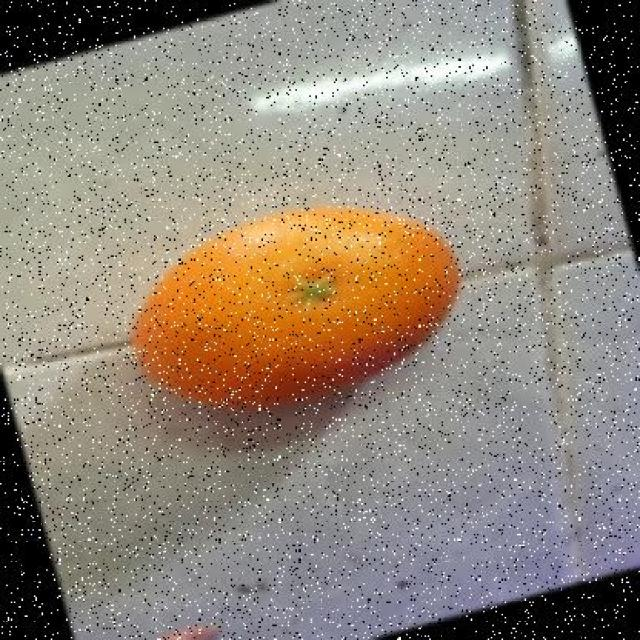Orange: (128, 203, 462, 412)
